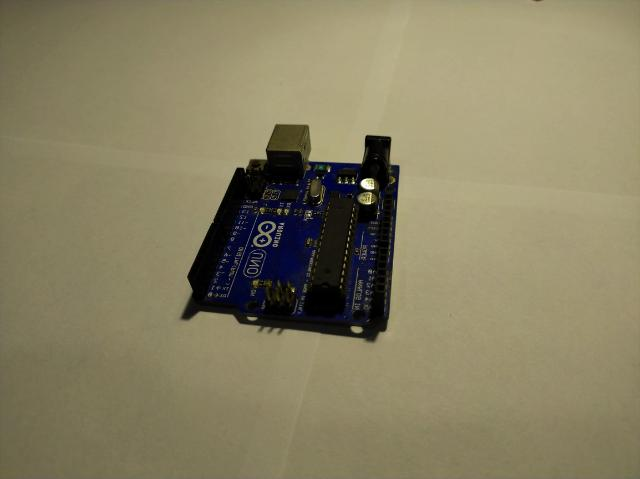arduino: (186, 126, 400, 326)
